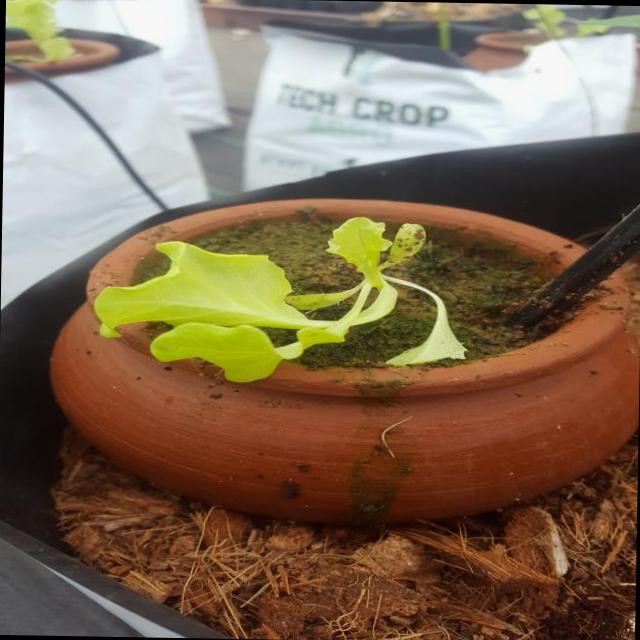Lettuce-Not-Ready-to-Harvest: (92, 217, 427, 382), (384, 282, 466, 366), (5, 0, 75, 62), (522, 4, 609, 41)
